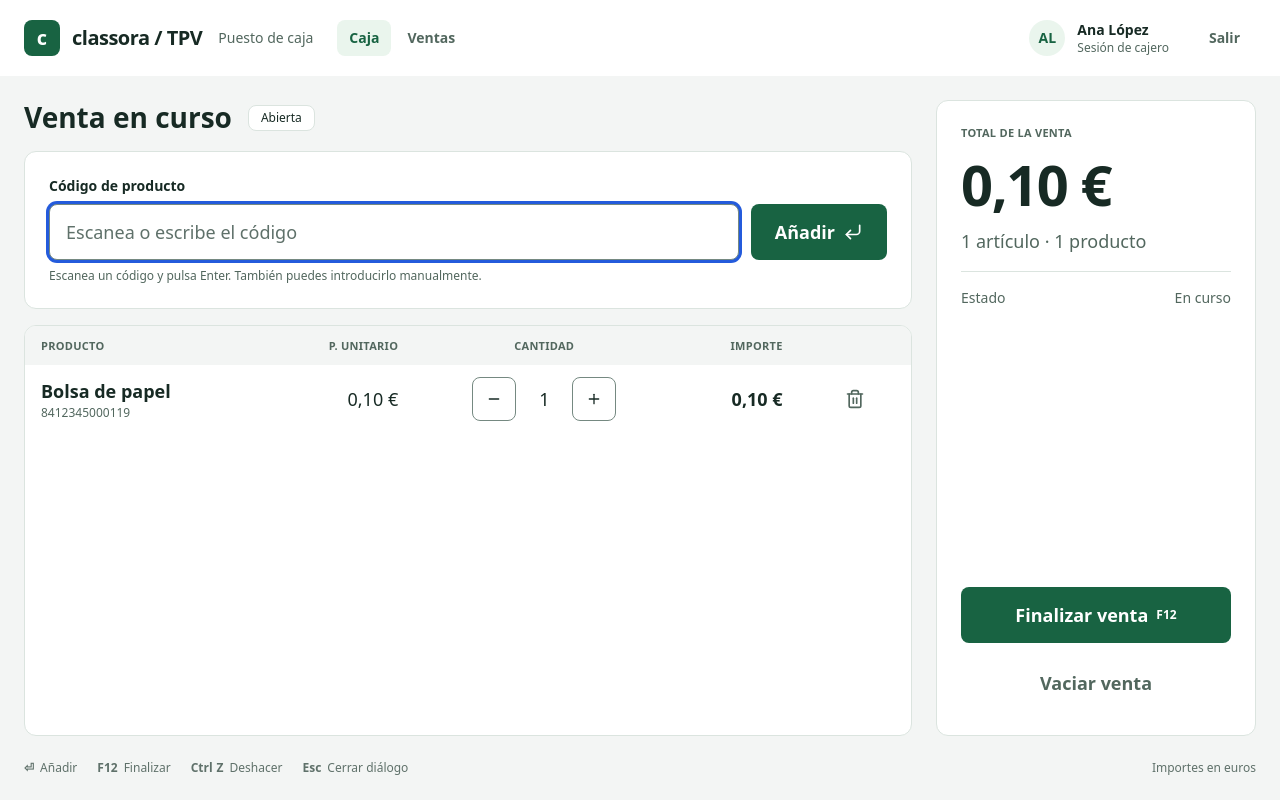
Test: Checkout: Screen Integration › should remove the line with − at quantity 1, also undoable
Expected: the field labelled "Código de producto" is enabled, [49,204,739,260]
Click the button named "Reducir cantidad de Bolsa de papel" at (494, 399), box [472,377,516,421]
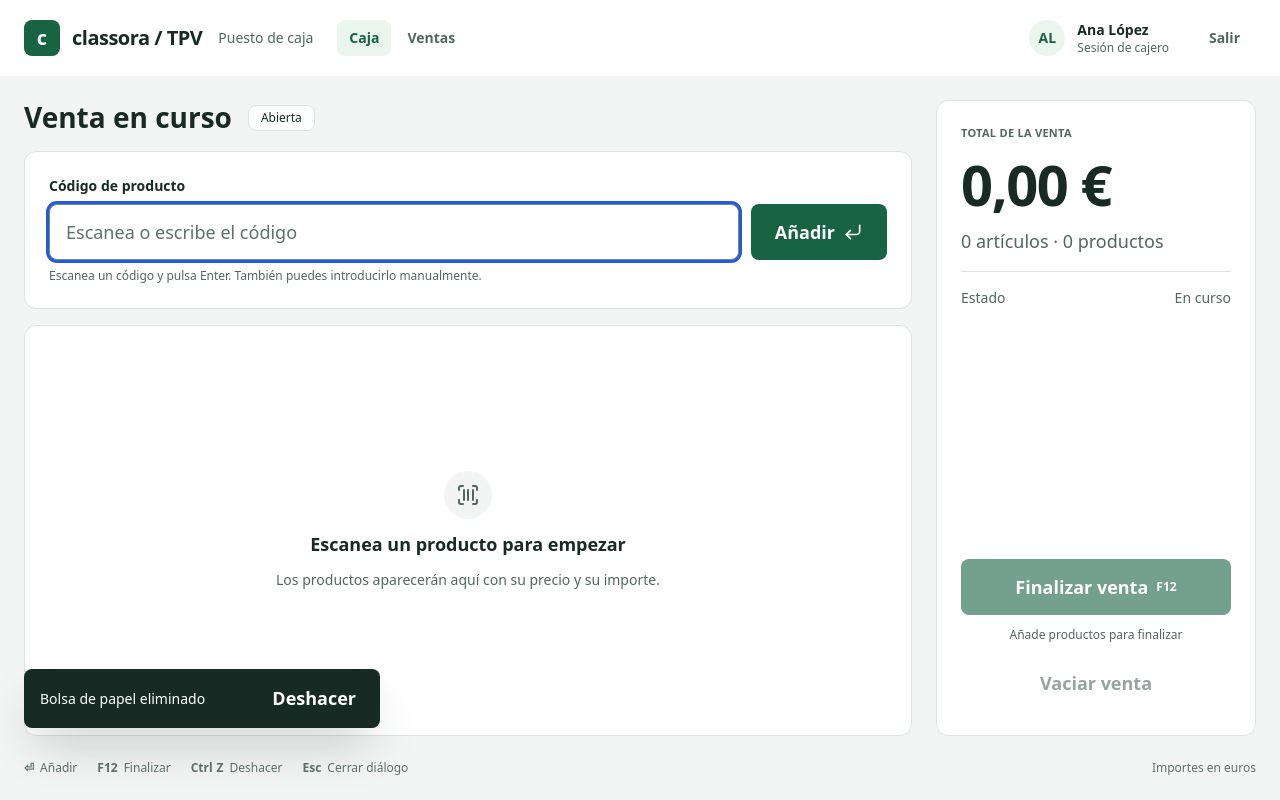
Now the text "Bolsa de papel eliminado" is shown, box [40,688,205,708]
Now the text "Escanea un producto para empezar" is shown, box [310,531,626,558]
